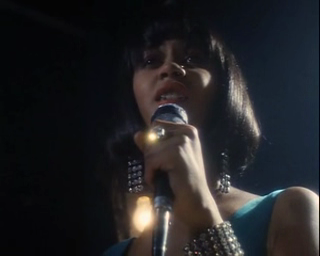cu: (1, 1, 320, 256)
face: (132, 37, 214, 131)
person: (103, 8, 320, 256)
